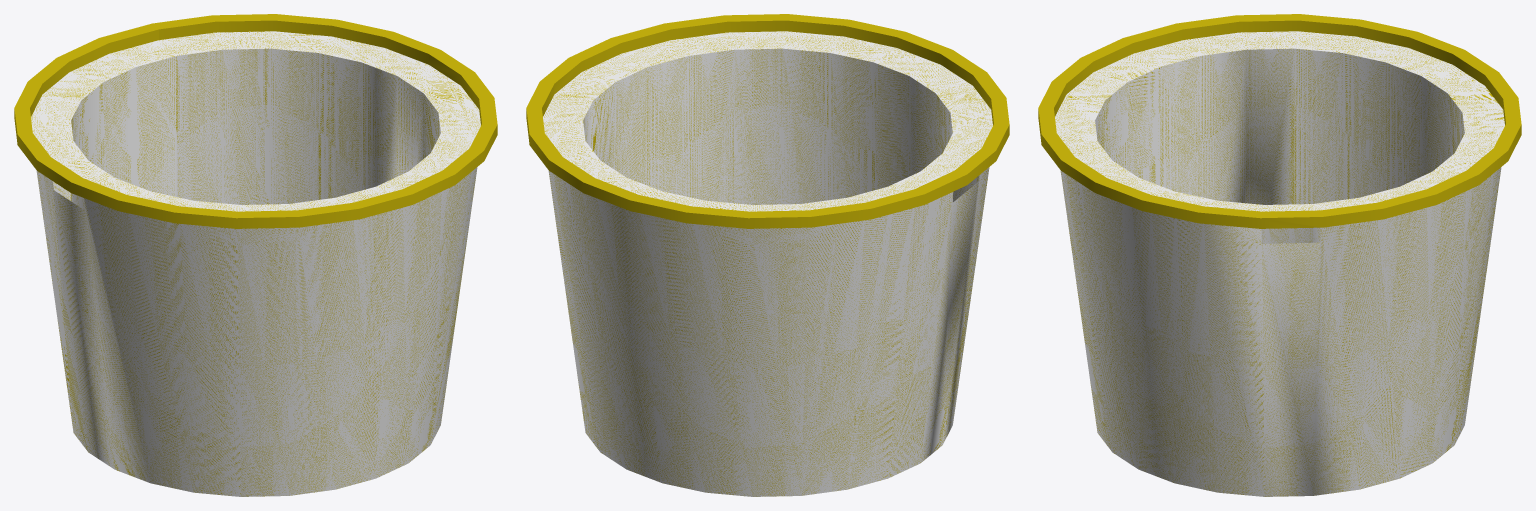
Rendered from original-9.obj.
The picture shows the model from 3 angles, left to right: view 1: azimuth 30°, elevation 25°; view 2: azimuth 150°, elevation 25°; view 3: azimuth 270°, elevation 25°; orthographic projection.
Visible parts, largest first — view 1: 3dw.e2c049a1e7b7004bf44a292ef014253/Model/mesh1/mesh1-geometry/m; view 2: 3dw.e2c049a1e7b7004bf44a292ef014253/Model/mesh1/mesh1-geometry/m; view 3: 3dw.e2c049a1e7b7004bf44a292ef014253/Model/mesh1/mesh1-geometry/m.
Part boxes in pixels (box(x1,y1,x2,y2)): 3dw.e2c049a1e7b7004bf44a292ef014253/Model/mesh1/mesh1-geometry/m: box(14, 14, 497, 496); 3dw.e2c049a1e7b7004bf44a292ef014253/Model/mesh1/mesh1-geometry/m: box(526, 14, 1009, 496); 3dw.e2c049a1e7b7004bf44a292ef014253/Model/mesh1/mesh1-geometry/m: box(1038, 14, 1521, 496).
Bounding box in the file's own units: 1.69 × 1.17 × 1.69.
